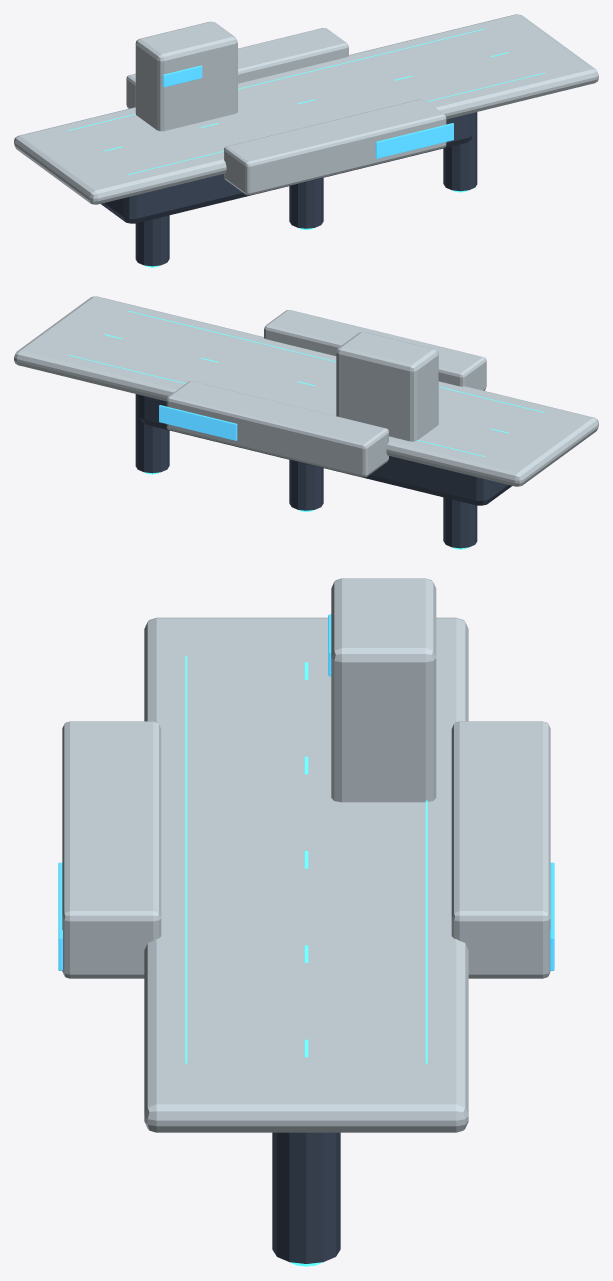
File: vanguard-ozone-base-v1-lod1.glb
3 views of the same model, one above another, from view 1: azimuth 30°, elevation 25°; view 2: azimuth 150°, elevation 25°; view 3: azimuth 270°, elevation 25° (orthographic). The views are drawn at different scales.
Visible parts, largest first — view 1: vanguard_ozone_base__lod1__Vanguard aerospace shell, vanguard_ozone_base__lod1__Vanguard structural frame, vanguard_ozone_base__lod1__Vanguard recessed glazing, vanguard_ozone_base__lod1__Vanguard emissive guidance; view 2: vanguard_ozone_base__lod1__Vanguard aerospace shell, vanguard_ozone_base__lod1__Vanguard structural frame, vanguard_ozone_base__lod1__Vanguard recessed glazing, vanguard_ozone_base__lod1__Vanguard emissive guidance; view 3: vanguard_ozone_base__lod1__Vanguard aerospace shell, vanguard_ozone_base__lod1__Vanguard structural frame, vanguard_ozone_base__lod1__Vanguard emissive guidance, vanguard_ozone_base__lod1__Vanguard recessed glazing.
Boxes of the visible parts, left/top/right/bottom form: vanguard_ozone_base__lod1__Vanguard aerospace shell: left=14, top=14, right=598, bottom=204; vanguard_ozone_base__lod1__Vanguard structural frame: left=101, top=112, right=477, bottom=266; vanguard_ozone_base__lod1__Vanguard recessed glazing: left=162, top=65, right=453, bottom=158; vanguard_ozone_base__lod1__Vanguard emissive guidance: left=68, top=28, right=544, bottom=267; vanguard_ozone_base__lod1__Vanguard aerospace shell: left=14, top=296, right=598, bottom=486; vanguard_ozone_base__lod1__Vanguard structural frame: left=135, top=394, right=511, bottom=548; vanguard_ozone_base__lod1__Vanguard recessed glazing: left=159, top=405, right=237, bottom=440; vanguard_ozone_base__lod1__Vanguard emissive guidance: left=68, top=310, right=544, bottom=549; vanguard_ozone_base__lod1__Vanguard aerospace shell: left=62, top=578, right=550, bottom=1132; vanguard_ozone_base__lod1__Vanguard structural frame: left=272, top=1132, right=340, bottom=1263; vanguard_ozone_base__lod1__Vanguard emissive guidance: left=185, top=656, right=427, bottom=1266; vanguard_ozone_base__lod1__Vanguard recessed glazing: left=58, top=614, right=554, bottom=970.
Bounding box in the file's own units: 760 × 284 × 321.
